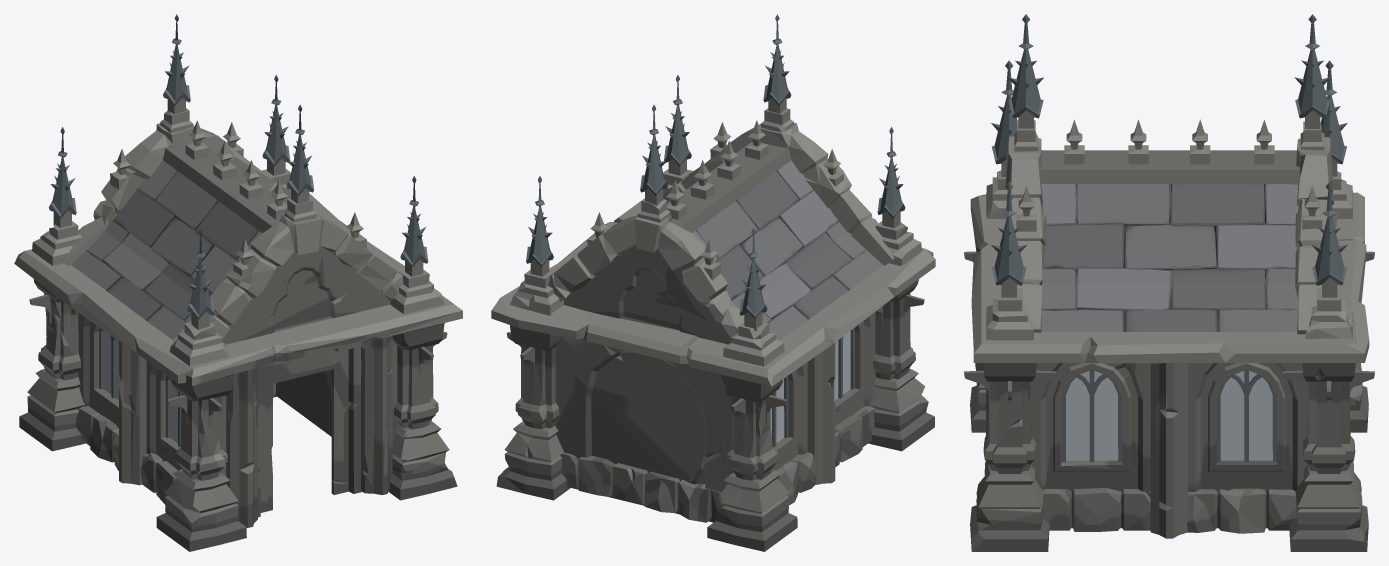
Rendered from crypt_mausoleum_b.gltf.
The picture shows the model from 3 angles, left to right: view 1: azimuth 30°, elevation 25°; view 2: azimuth 150°, elevation 25°; view 3: azimuth 270°, elevation 25°; orthographic projection. The views are drawn at different scales.
Visible parts, largest first — view 1: crypt_mausoleum_b; view 2: crypt_mausoleum_b; view 3: crypt_mausoleum_b.
Part boxes in pixels (x1,y1,x2,y2): crypt_mausoleum_b: [14, 14, 462, 551]; crypt_mausoleum_b: [491, 14, 935, 551]; crypt_mausoleum_b: [964, 14, 1374, 551].
Bounding box in the file's own units: 4.72 × 6.29 × 5.07.
2 materials, 2 textured.
